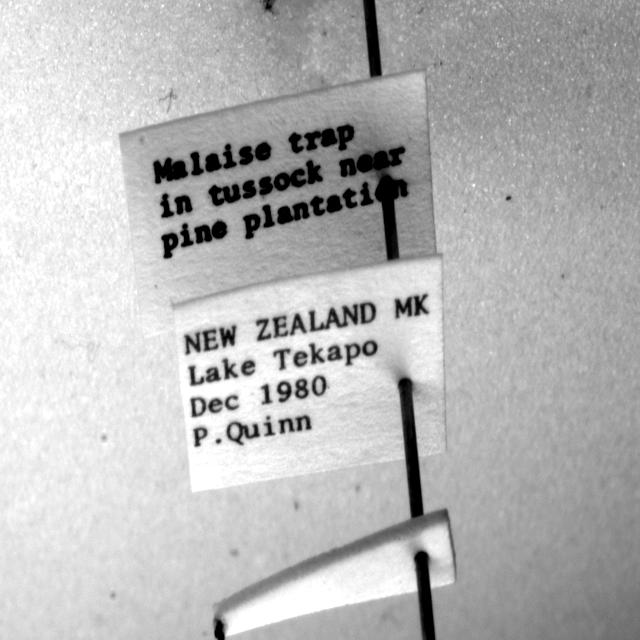typed_label: (120, 71, 436, 338), (174, 255, 446, 491)
